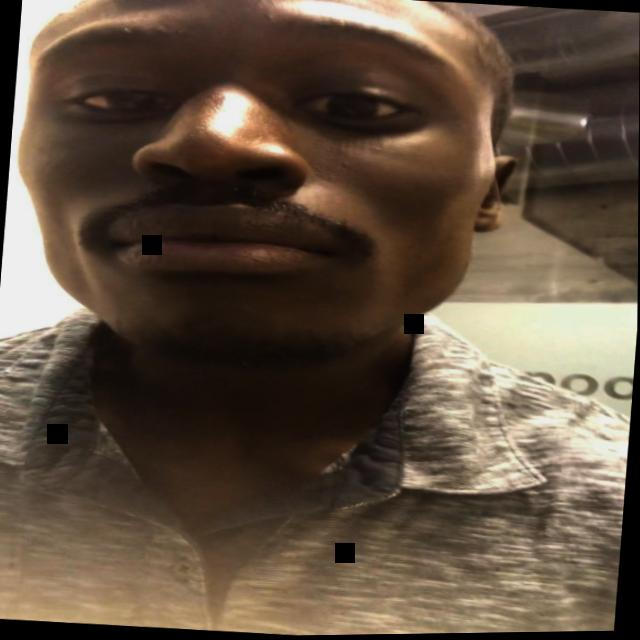NO-Mask: (4, 0, 507, 384)
